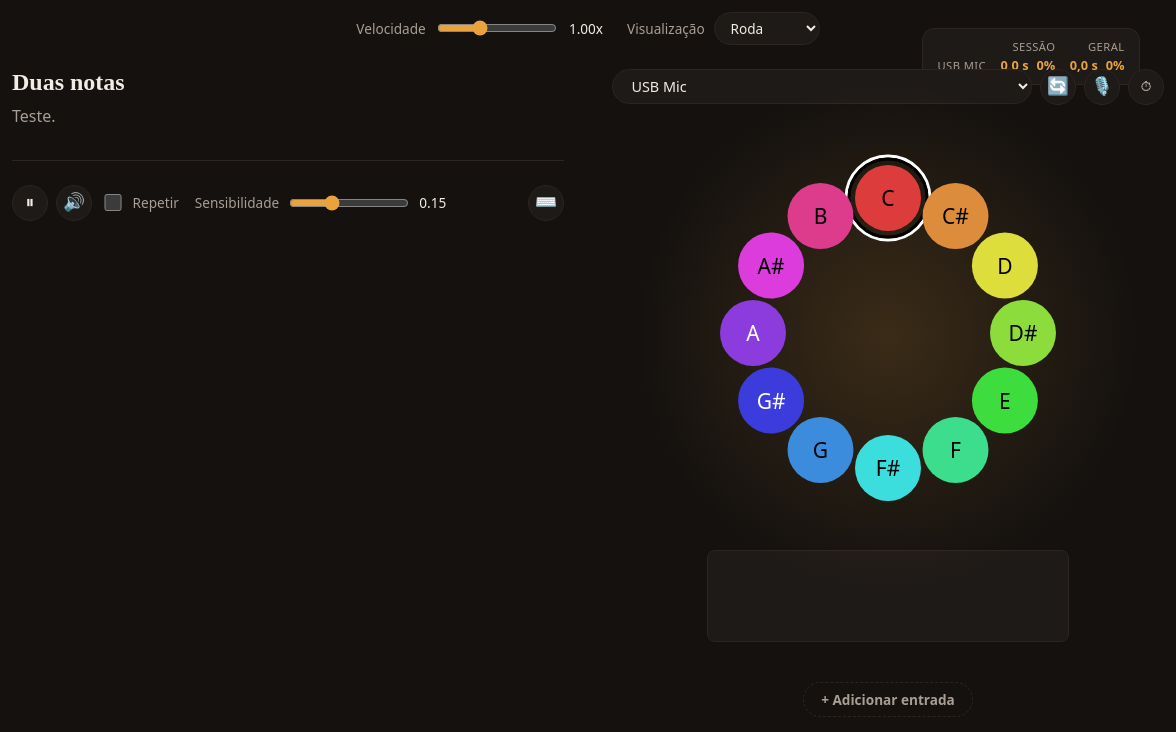
Scenario: ExercisePlayer input latency › pauses the exercise when a calibration starts
The width and height of the screenshot is (1176, 732).
expect the button named "Pausar" is shown: met, box [12, 185, 48, 221]
Click the button named "Atraso da entrada". click: (1146, 87)
box: [1128, 69, 1164, 105]
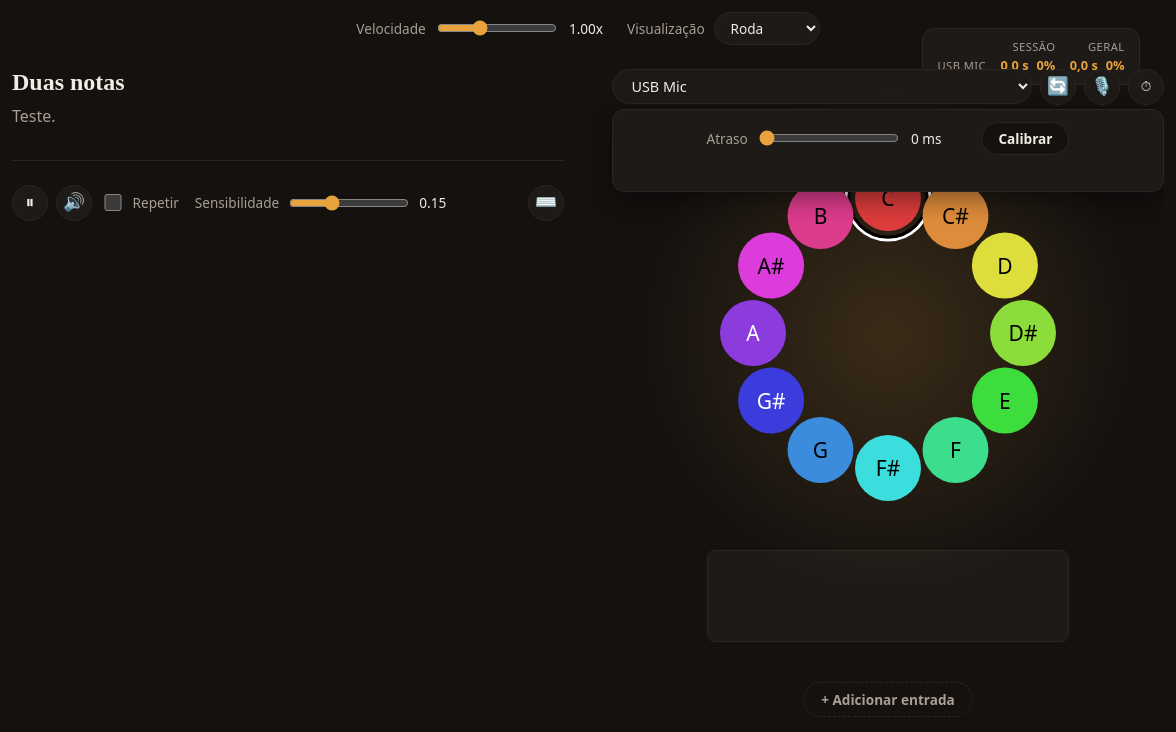
Click the button "Calibrar". click: (1025, 138)
box: [981, 122, 1070, 155]
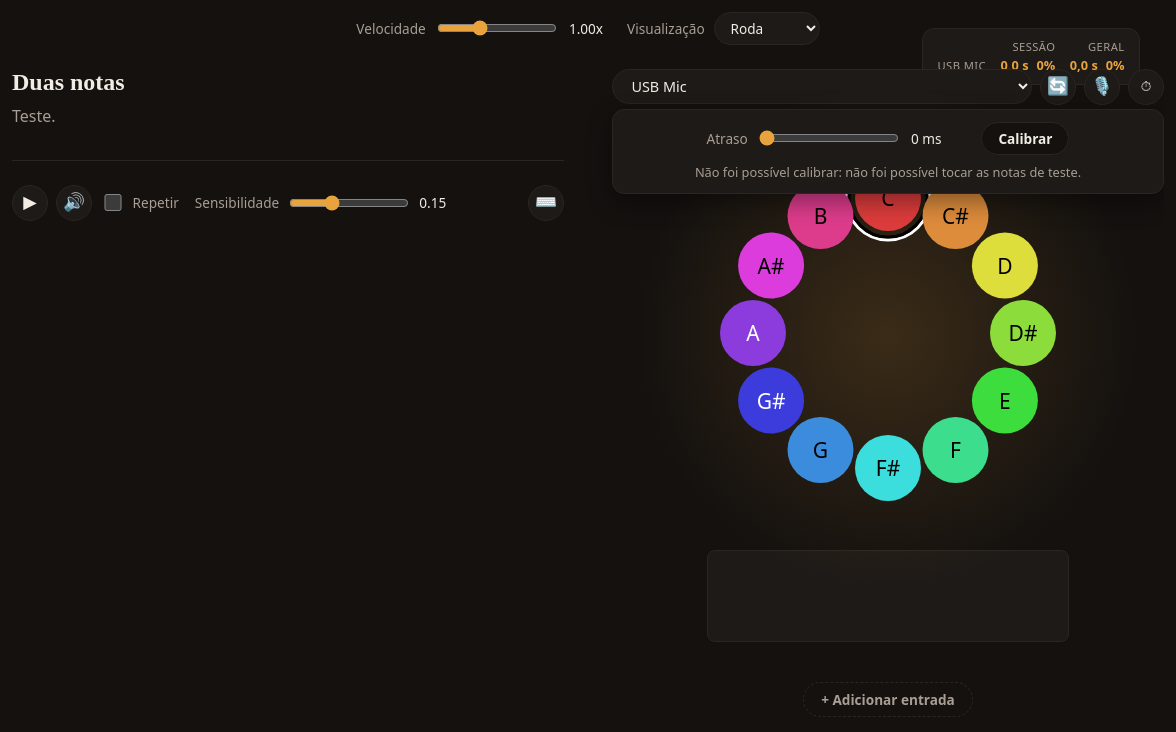
expect the button named "Retomar" is shown: met, box [12, 185, 48, 221]
